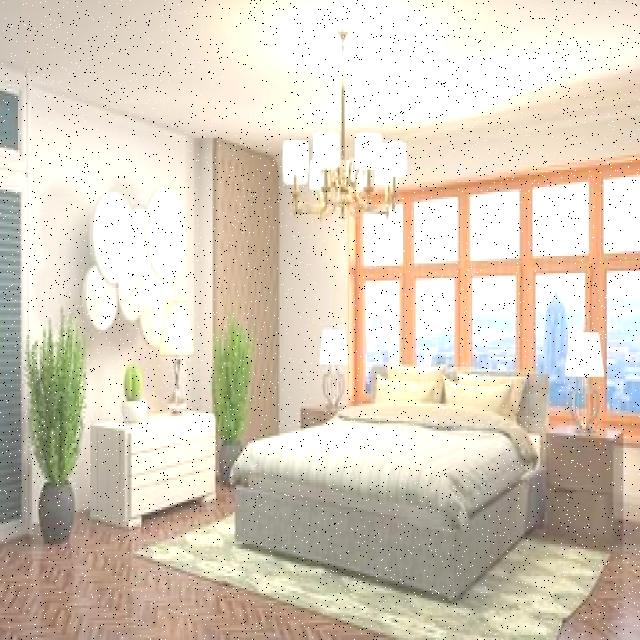bed: (244, 347, 540, 566)
